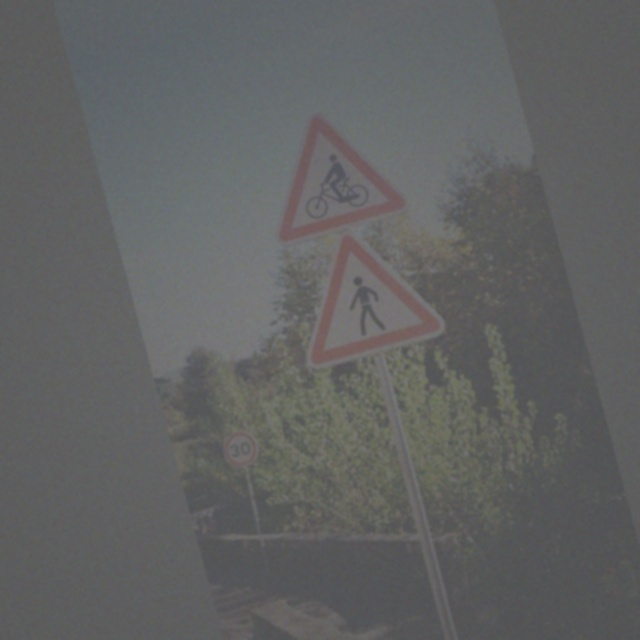Cycle_Crossing: (255, 97, 416, 247)
